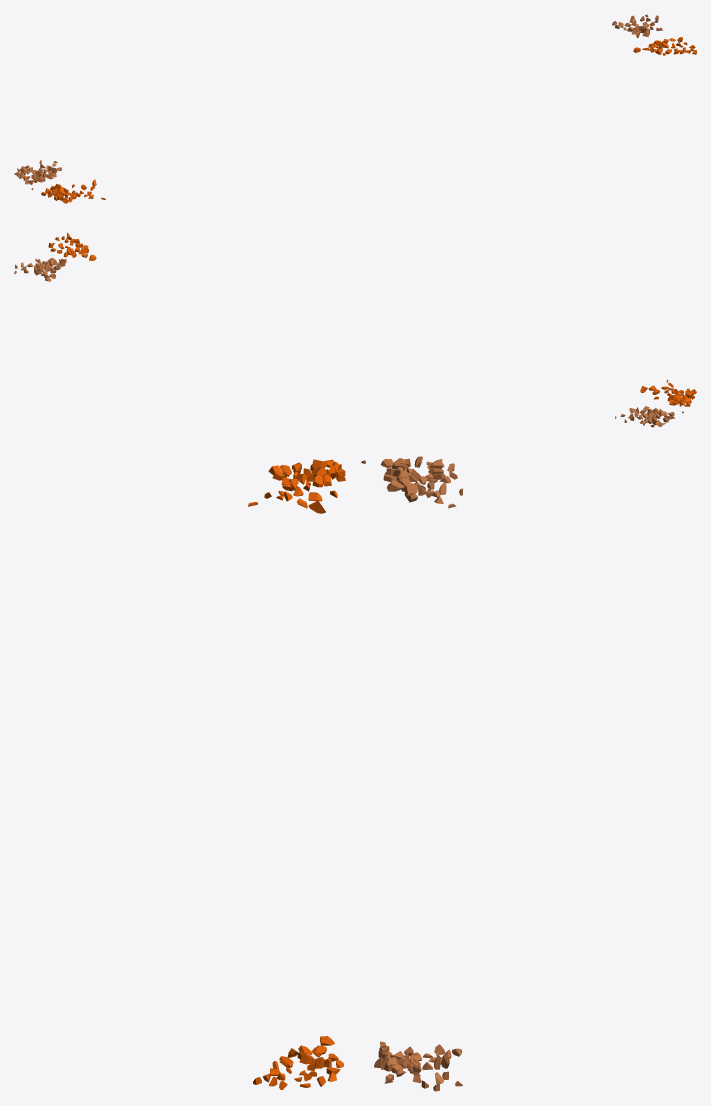
The model's file is Debris.fbx.
3 views of the same model, one above another, from view 1: azimuth 30°, elevation 25°; view 2: azimuth 150°, elevation 25°; view 3: azimuth 270°, elevation 25° (orthographic). The views are drawn at different scales.
Parts seen in each view (by area): view 1: Debris; view 2: Debris; view 3: Debris.
Part boxes in pixels (x1=…): Debris: x1=14, y1=14, x2=696, y2=203; Debris: x1=14, y1=232, x2=696, y2=427; Debris: x1=248, y1=456, x2=462, y2=1091.
Bounding box in the file's own units: 31210 × 331 × 4515.
